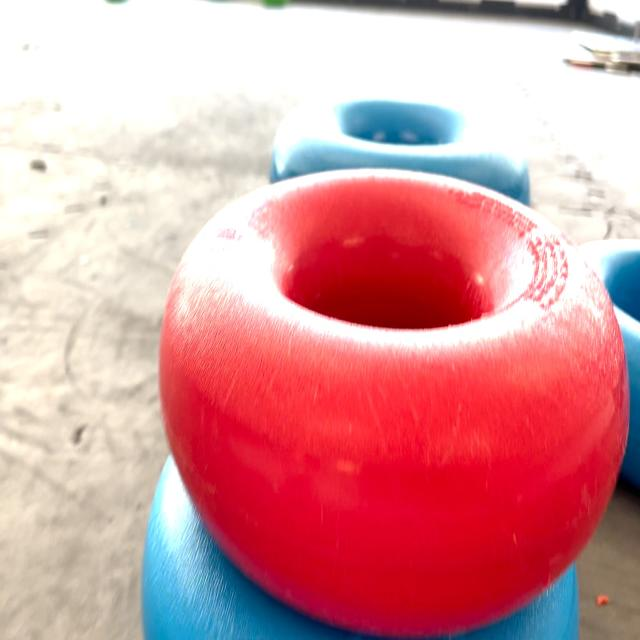Blue-Ring: (141, 458, 378, 640), (270, 100, 530, 204), (580, 240, 640, 488), (434, 564, 579, 640)
Red-Ring: (159, 171, 629, 636)
